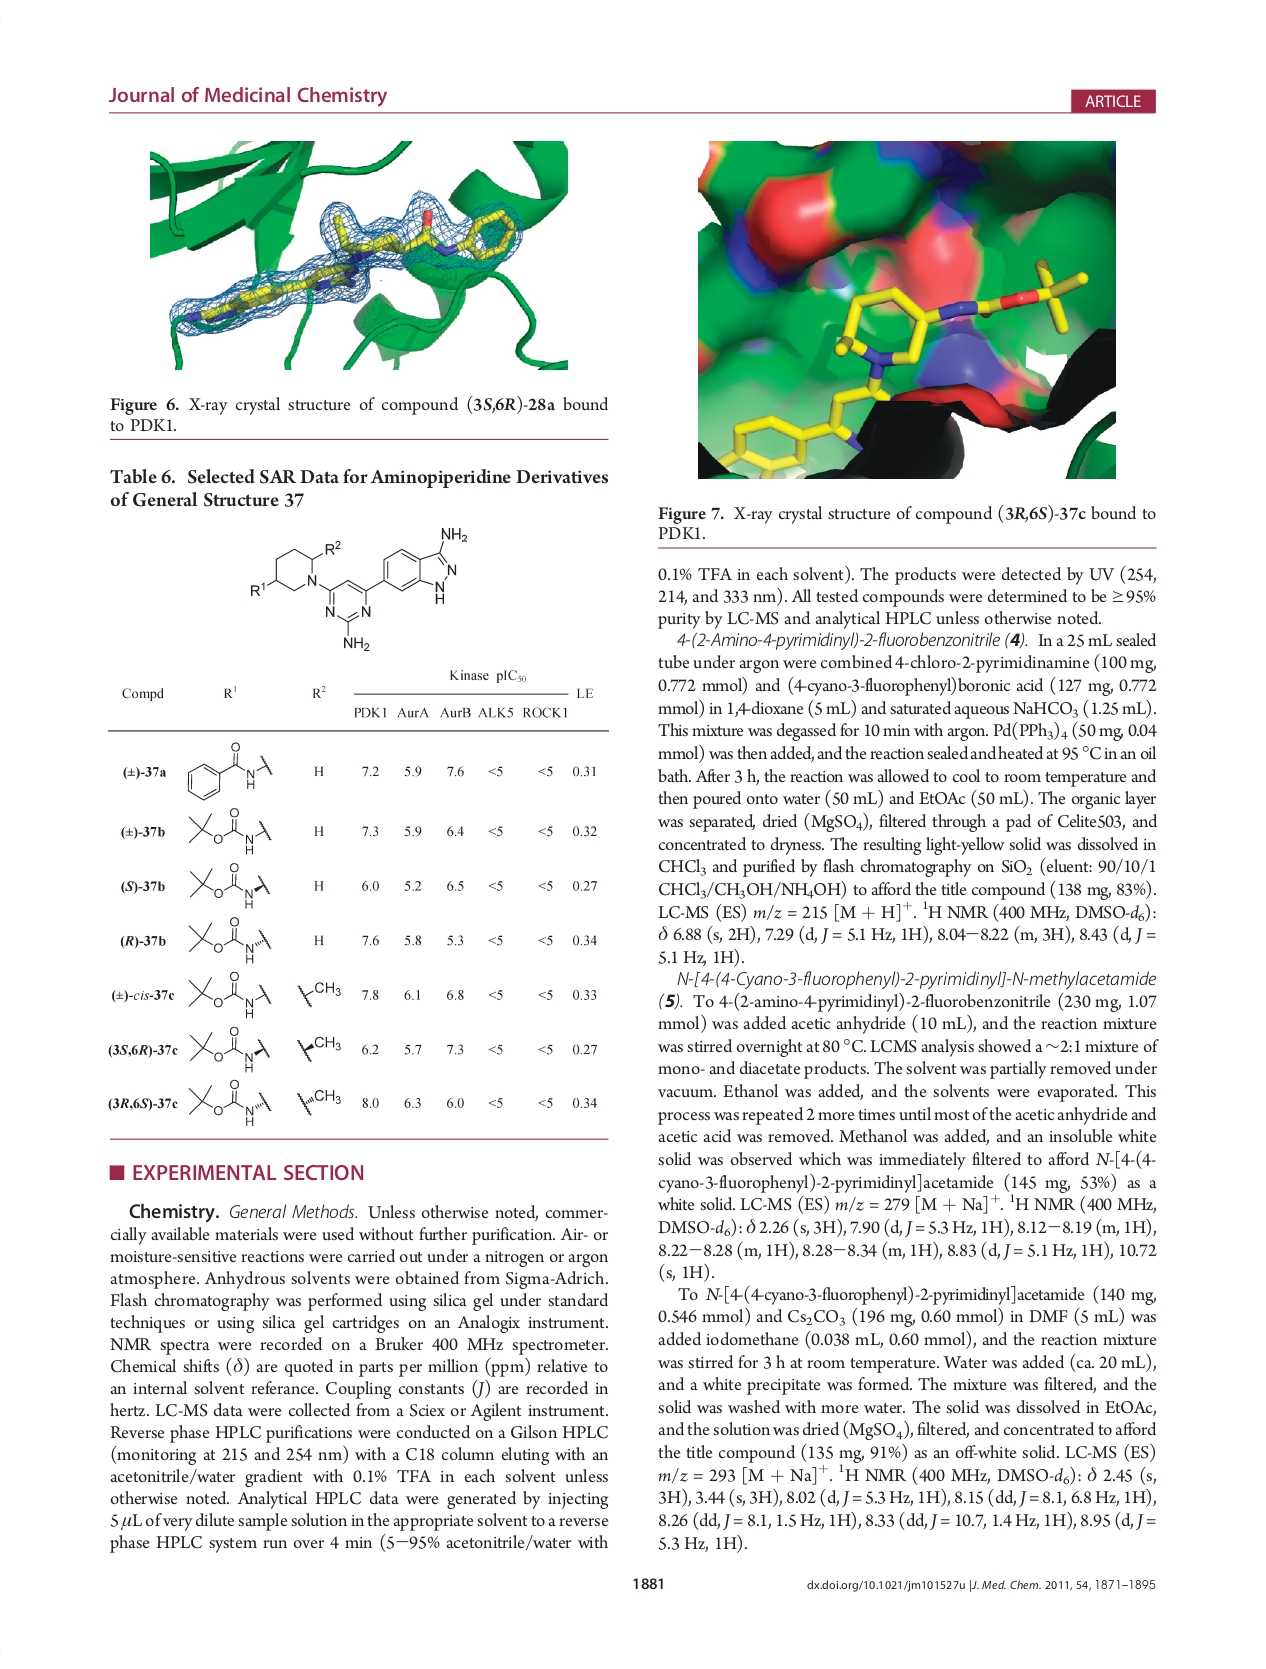exist_molecular: (242, 524, 473, 652), (184, 739, 277, 802), (186, 1075, 273, 1130), (185, 914, 274, 965), (185, 805, 275, 855), (184, 969, 273, 1020), (186, 1023, 273, 1075), (185, 860, 273, 910), (293, 1027, 343, 1065), (294, 1084, 344, 1121), (293, 973, 340, 1009)
